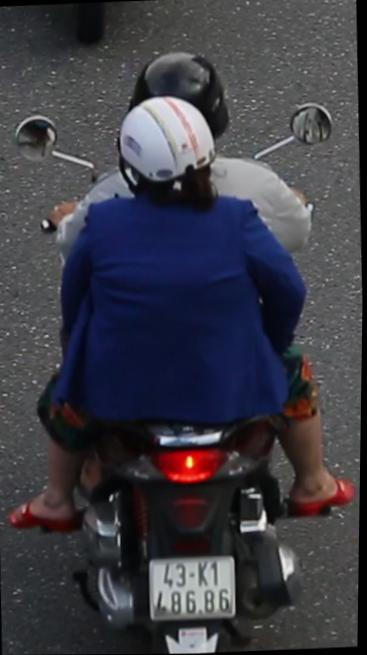LP: (146, 548, 243, 626)
helmet: (110, 89, 225, 215), (131, 45, 236, 139)
